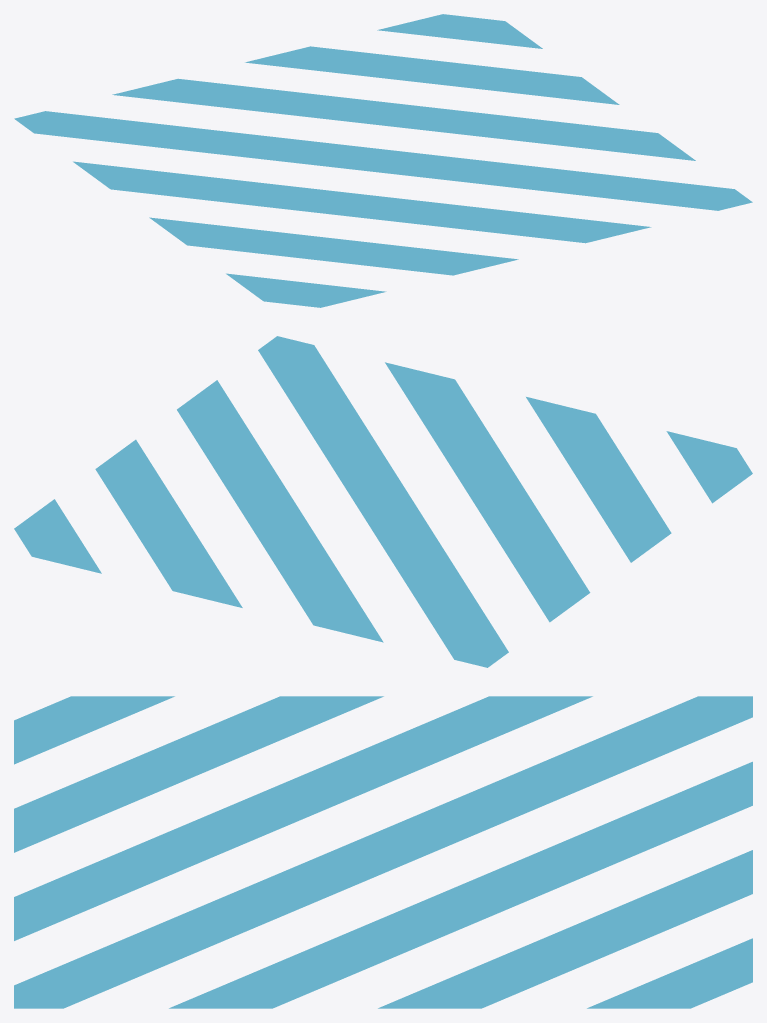
File: Button_BlueDiagonalDown.glb
3 views of the same model, one above another, from view 1: azimuth 30°, elevation 25°; view 2: azimuth 150°, elevation 25°; view 3: azimuth 270°, elevation 25° (orthographic). The views are drawn at different scales.
Parts seen in each view (by area): view 1: indicator-special-lines.007; view 2: indicator-special-lines.007; view 3: indicator-special-lines.007.
Part boxes in pixels (<box>): indicator-special-lines.007: <box>14,14,752,307</box>; indicator-special-lines.007: <box>14,336,752,667</box>; indicator-special-lines.007: <box>14,696,752,1008</box>.
Bounding box in the file's own units: 1 × 0 × 1.
